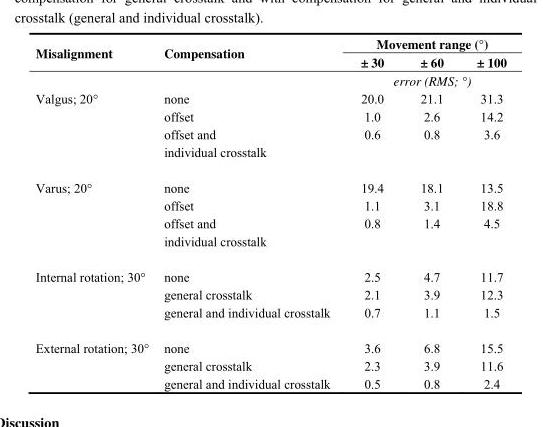table: (34, 34, 506, 390)
table column: (155, 34, 344, 390), (34, 34, 155, 390), (401, 34, 459, 390), (344, 34, 401, 390), (459, 34, 506, 390)
table column header: (34, 34, 506, 71)
table row: (34, 142, 506, 169), (34, 169, 506, 196), (34, 231, 506, 258), (34, 258, 506, 285), (34, 329, 506, 356), (34, 303, 506, 329), (34, 52, 506, 71), (34, 34, 506, 52), (34, 71, 506, 89), (34, 89, 506, 107), (34, 124, 506, 142), (34, 196, 506, 214), (34, 285, 506, 303), (34, 356, 506, 374), (34, 107, 506, 124), (34, 214, 506, 231), (34, 374, 506, 390)
table spanning cell: (34, 169, 155, 258), (34, 89, 155, 169), (34, 258, 155, 329), (34, 329, 155, 390), (155, 34, 344, 71), (34, 34, 155, 71), (344, 34, 506, 52), (344, 71, 506, 89)
